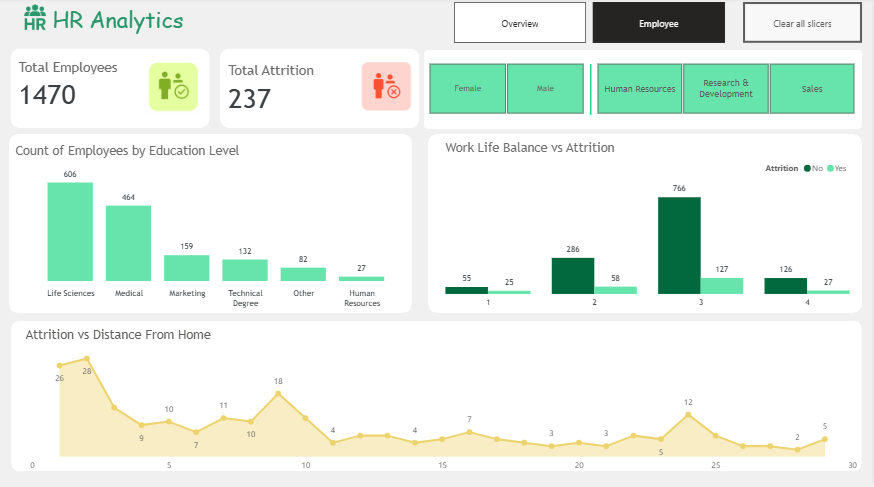

What the dashboard file says about the page in this screenshot:
{"tool":"powerbi","page":{"name":"Employee","canvas":[1280,720],"ordinal":1},"visuals":[{"type":"textbox","box":[72,5.9,361.5,55.8],"z":0},{"type":"image","box":[0,0,102.9,70.5],"z":1000},{"type":"shape","box":[628.9,201.3,637.7,263],"z":2000},{"type":"shape","box":[623,77.9,643.6,116.1],"z":3000},{"type":"shape","box":[13.2,201.3,592.2,263],"z":3000,"group":"g2"},{"type":"actionButton","box":[1091.8,7.3,174.9,60],"z":4000},{"type":"shape","box":[847.3,97.9,40.4,74.7],"z":5000},{"type":"group","id":"g1","title":"Group 2","box":[16.2,476.1,1250.4,229.2],"z":6000},{"type":"group","id":"g2","title":"Group 3","box":[13.2,201.3,592.2,263],"z":7000},{"type":"clusteredColumnChart","title":"Work Life Balance vs Attrition","fields":{"Category":["HR Analytics Final Dataset xlsx - main.WorkLifeBalance"],"Series":["HR Analytics Final Dataset xlsx - main.Attrition"],"Y":["CountNonNull(HR Analytics Final Dataset xlsx - main.EmployeeNumber)"]},"box":[649.5,210.1,603.9,254.2],"z":8000},{"type":"cardVisual","fields":{"Data":["Measures_Table.Total Employees","Measures_Table.Total Attrition"]},"box":[10.3,70.5,612.7,127.8],"z":9000},{"type":"columnChart","title":"Count of Employees by Education Level","fields":{"Y":["Measures_Table.Total Employees"],"Category":["HR Analytics Final Dataset xlsx - main.EducationField"]},"box":[17.2,214.5,588.1,249.8],"z":9000,"group":"g2"},{"type":"pageNavigator","box":[667.1,7.3,399.7,60.2],"z":10000},{"type":"slicer","fields":{"Values":["HR Analytics Final Dataset xlsx - main.Gender"]},"box":[605.4,91.1,276.2,86.7],"z":11000},{"type":"slicer","fields":{"Values":["HR Analytics Final Dataset xlsx - main.Department"]},"box":[852.6,91.1,427.4,87],"z":12000},{"type":"shape","box":[16.2,476.1,1250.4,220.7],"z":12000,"group":"g1"},{"type":"lineChart","title":"Attrition vs Distance From Home","fields":{"Y":["Measures_Table.Total Attrition"],"Category":["HR Analytics Final Dataset xlsx - main.DistanceFromHome"]},"box":[31.7,484.8,1234.9,220.5],"z":13000,"group":"g1"}]}

Visuals, with their boxes in screenshot pixels (x1, y1, x2, y2), scaled from the page's 1280x720 canvas onto the 874x487 screenshot:
textbox: <bbox>49, 4, 296, 42</bbox>
image: <bbox>0, 0, 70, 48</bbox>
shape: <bbox>429, 136, 865, 314</bbox>
shape: <bbox>425, 53, 865, 131</bbox>
shape: <bbox>9, 136, 413, 314</bbox>
actionButton: <bbox>745, 5, 865, 46</bbox>
shape: <bbox>579, 66, 606, 117</bbox>
"Group 2" group: <bbox>11, 322, 865, 477</bbox>
"Group 3" group: <bbox>9, 136, 413, 314</bbox>
"Work Life Balance vs Attrition" clusteredColumnChart: <bbox>443, 142, 856, 314</bbox>
cardVisual - Measures_Table.Total Employees x Measures_Table.Total Attrition: <bbox>7, 48, 425, 134</bbox>
"Count of Employees by Education Level" columnChart: <bbox>12, 145, 413, 314</bbox>
pageNavigator: <bbox>456, 5, 728, 46</bbox>
slicer - HR Analytics Final Dataset xlsx - main.Gender: <bbox>413, 62, 602, 120</bbox>
slicer - HR Analytics Final Dataset xlsx - main.Department: <bbox>582, 62, 873, 120</bbox>
shape: <bbox>11, 322, 865, 471</bbox>
"Attrition vs Distance From Home" lineChart: <bbox>22, 328, 865, 477</bbox>
